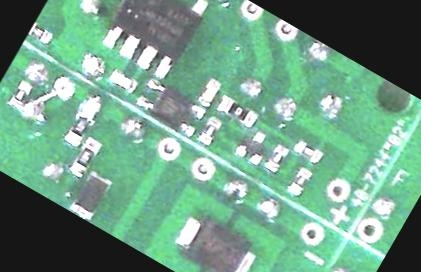chip-capacitor: (192, 74, 224, 111), (103, 65, 140, 97)
chip-resistor: (212, 92, 259, 131), (59, 105, 97, 149), (67, 137, 102, 181), (192, 111, 226, 149), (259, 139, 291, 176), (282, 164, 313, 200), (288, 137, 324, 168), (5, 78, 34, 112), (26, 21, 56, 47)
diode: (166, 204, 264, 272), (66, 168, 114, 223)
ic: (92, 0, 213, 86), (131, 75, 208, 141)
transistor: (231, 124, 273, 168)
